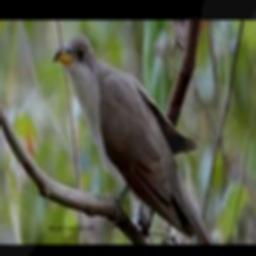Cuckoo: (54, 32, 214, 245)
